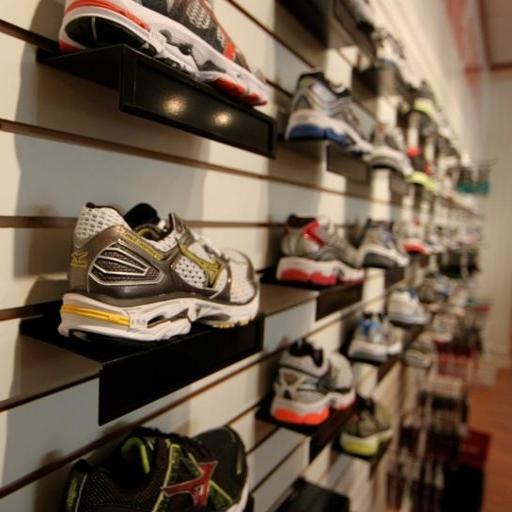shoe: (59, 203, 259, 342), (59, 0, 268, 105), (60, 427, 248, 512), (271, 339, 355, 425), (285, 71, 372, 154), (276, 215, 364, 286), (270, 339, 330, 425), (373, 27, 422, 90), (340, 399, 393, 457), (358, 219, 410, 269), (368, 123, 414, 178), (319, 353, 356, 410), (348, 312, 389, 362), (387, 288, 429, 328), (412, 81, 440, 128), (402, 332, 437, 369), (398, 218, 432, 255), (377, 311, 404, 357), (344, 0, 376, 33), (417, 271, 449, 304), (425, 224, 445, 254)
